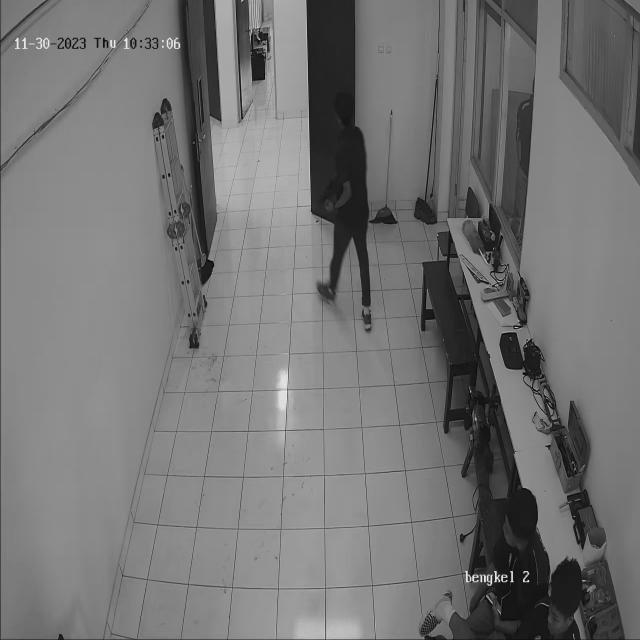person: (308, 67, 388, 381)
